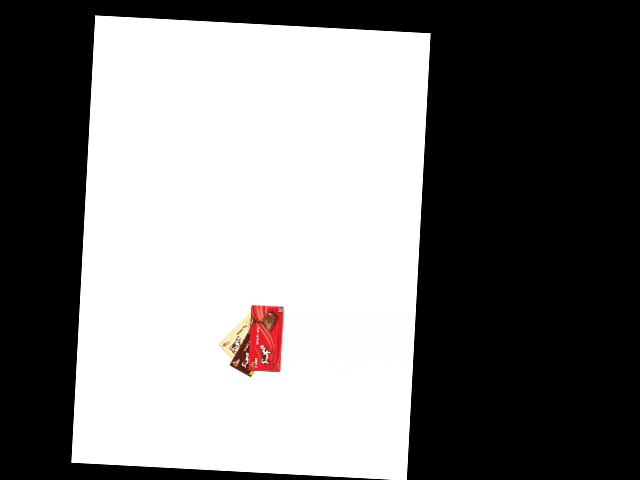chocolate: (216, 305, 257, 367)
